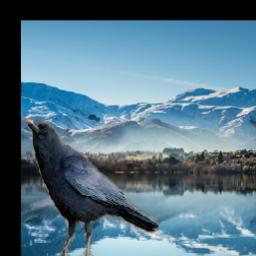Crow: (23, 119, 159, 256)
